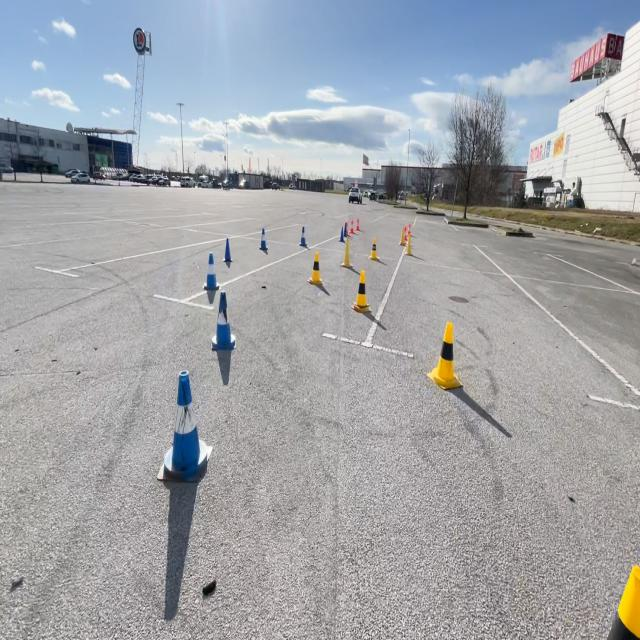blue_cone: (159, 372, 213, 484), (212, 288, 236, 351), (203, 252, 220, 290), (223, 237, 233, 263), (258, 227, 268, 249), (299, 226, 307, 246), (339, 226, 345, 243), (343, 222, 347, 236)
orange_cone: (354, 216, 361, 232), (355, 218, 361, 232), (349, 221, 354, 233), (405, 224, 408, 240), (405, 226, 408, 241), (407, 225, 411, 236), (346, 221, 349, 235)
yellow_cone: (426, 321, 462, 391), (606, 569, 639, 639), (350, 270, 371, 314), (307, 252, 324, 287), (340, 238, 353, 267), (370, 237, 379, 261), (369, 237, 378, 260), (404, 233, 413, 256), (399, 227, 406, 246)
